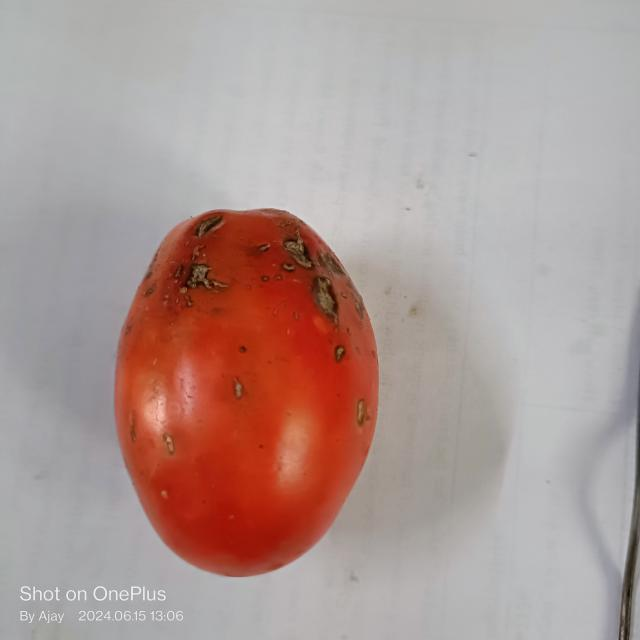Bacterial_Spot: (278, 218, 348, 332), (167, 208, 237, 297), (352, 388, 376, 430), (252, 237, 269, 293), (233, 370, 250, 404), (160, 432, 180, 460), (333, 344, 354, 365)
